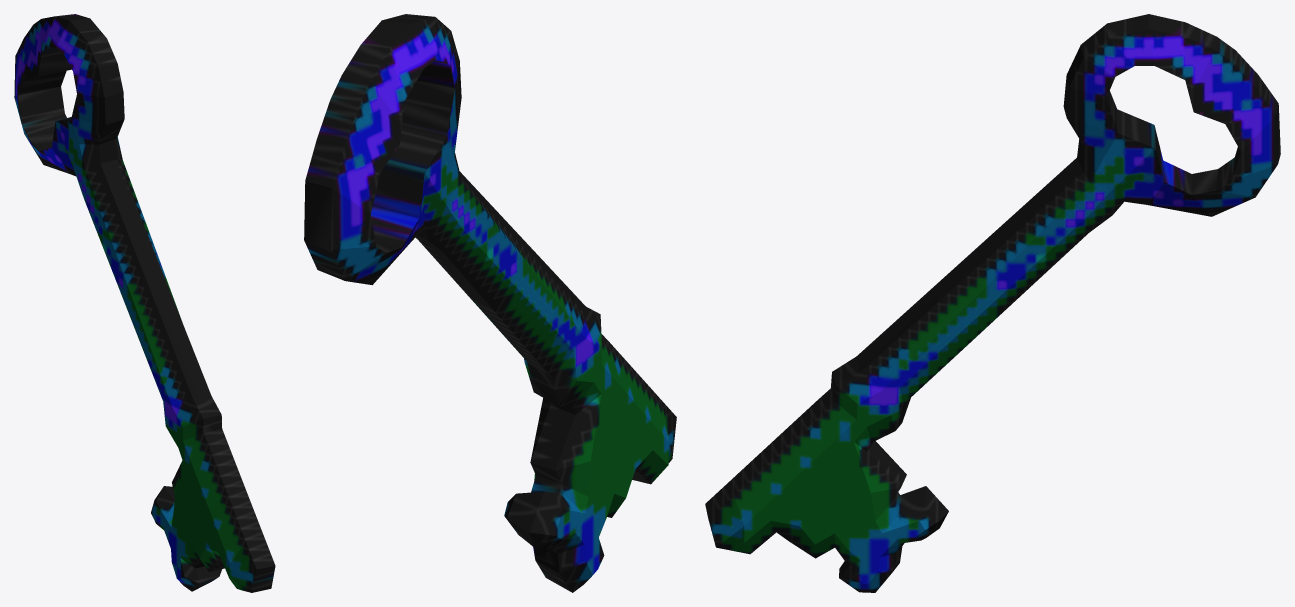
The model's file is Blue Key.glb.
The picture shows the model from 3 angles, left to right: view 1: azimuth 30°, elevation 25°; view 2: azimuth 150°, elevation 25°; view 3: azimuth 270°, elevation 25°; orthographic projection. The views are drawn at different scales.
Parts seen in each view (by area): view 1: Key Export; view 2: Key Export; view 3: Key Export.
Boxes of the visible parts, x1,y1,x2,y2 form: Key Export: [14, 14, 275, 592]; Key Export: [304, 14, 676, 592]; Key Export: [705, 14, 1280, 592].
Size of the model in its own units: 0.2879 by 3.16 by 2.87.
1 material, 1 textured.
